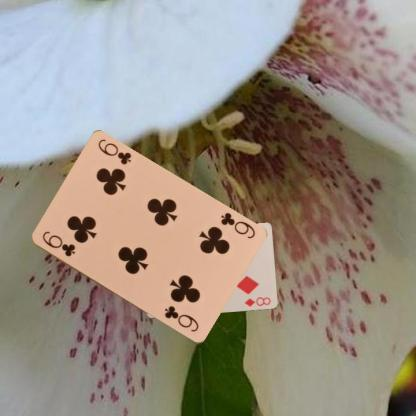6c: (217, 210, 257, 240), (39, 228, 76, 258)
